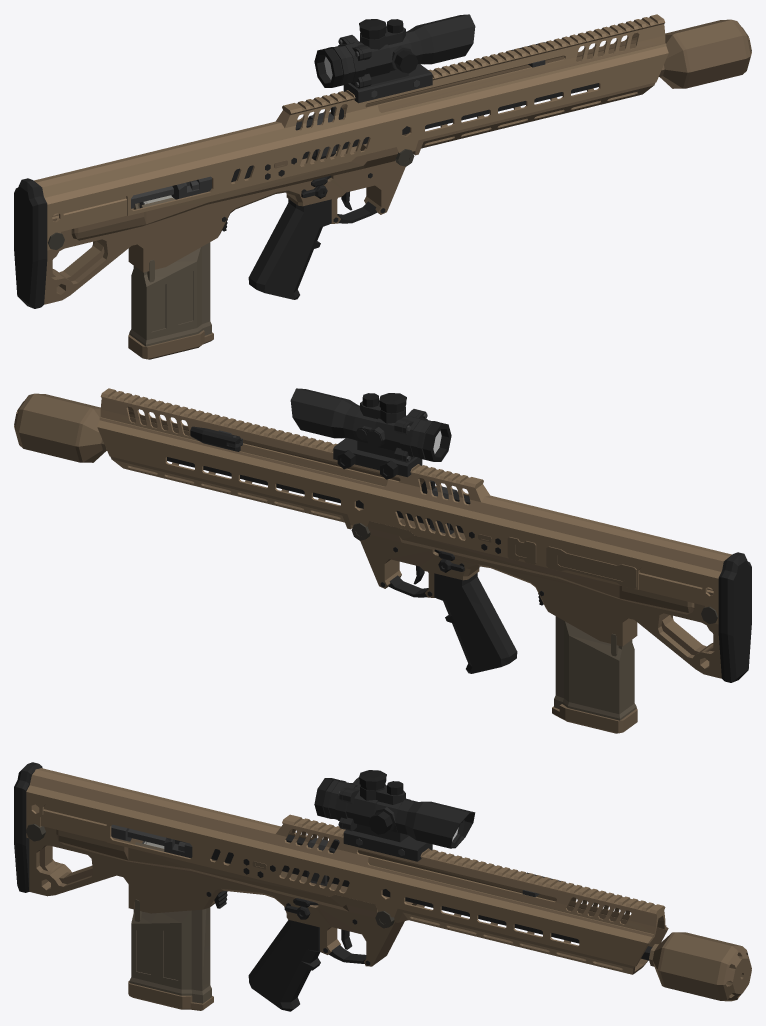
3 renders of one model, top to bottom at view 1: azimuth 30°, elevation 25°; view 2: azimuth 150°, elevation 25°; view 3: azimuth 330°, elevation 25°, orthographic.
Parts seen in each view (by area): view 1: RM277 Bullpup; view 2: RM277 Bullpup; view 3: RM277 Bullpup.
Boxes of the visible parts, x1,y1,x2,y2 form: RM277 Bullpup: (14,14,751,359); RM277 Bullpup: (14,388,751,733); RM277 Bullpup: (14,762,751,1011).
Bounding box in the file's own units: 488 × 177 × 36.32.
